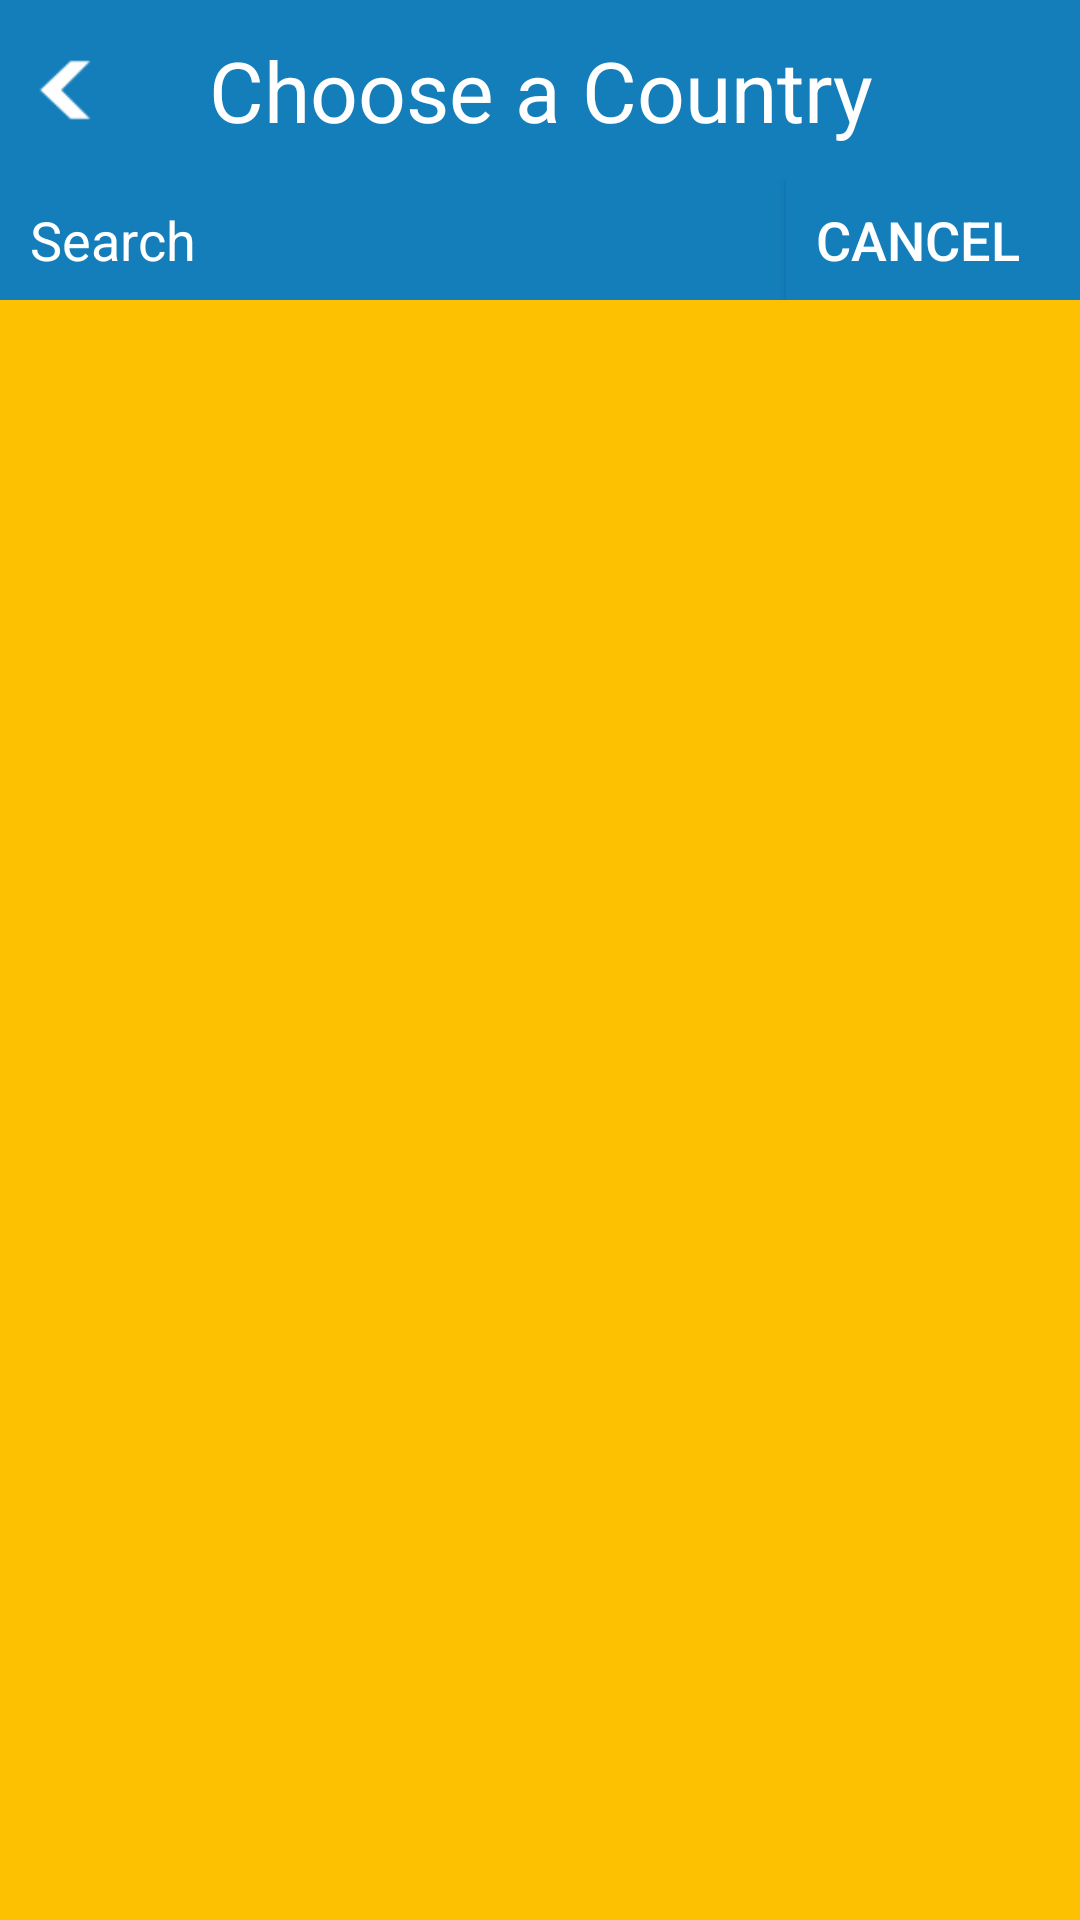

Screen size 1080w x 1920h. Icon name, then its box in pixels as bbox=[x1, y1, x2, y2]:
back: bbox=[40, 60, 90, 120]
